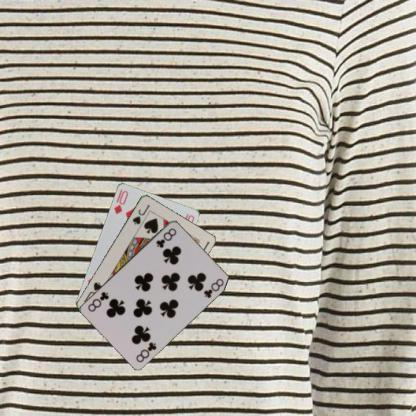10d: (110, 188, 129, 216)
8c: (134, 339, 158, 364), (153, 226, 177, 248)
Js: (130, 201, 152, 226)
